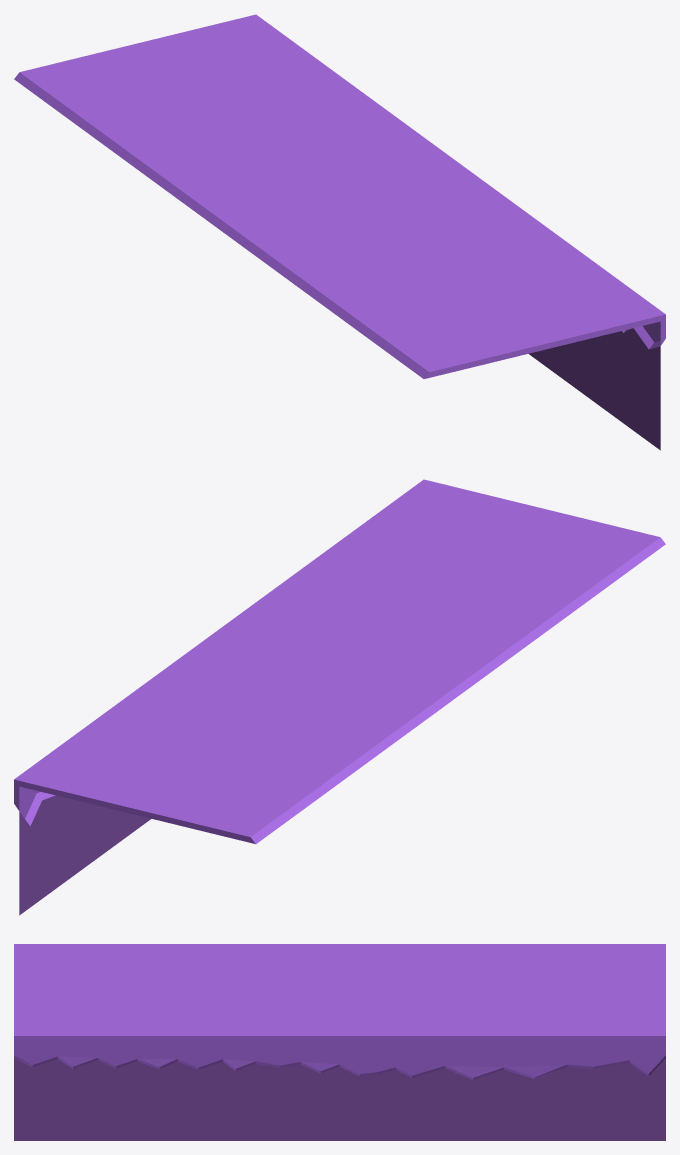
File: normalPath.fbx
3 renders of one model, top to bottom at view 1: azimuth 30°, elevation 25°; view 2: azimuth 150°, elevation 25°; view 3: azimuth 270°, elevation 25°, orthographic. The views are drawn at different scales.
Visible parts, largest first — view 1: Cube; view 2: Cube; view 3: Cube.
Boxes of the visible parts, x1,y1,x2,y2 form: Cube: [14, 14, 665, 450]; Cube: [14, 479, 665, 915]; Cube: [14, 944, 665, 1140].
Size of the model in its own units: 205 by 109 by 600.
